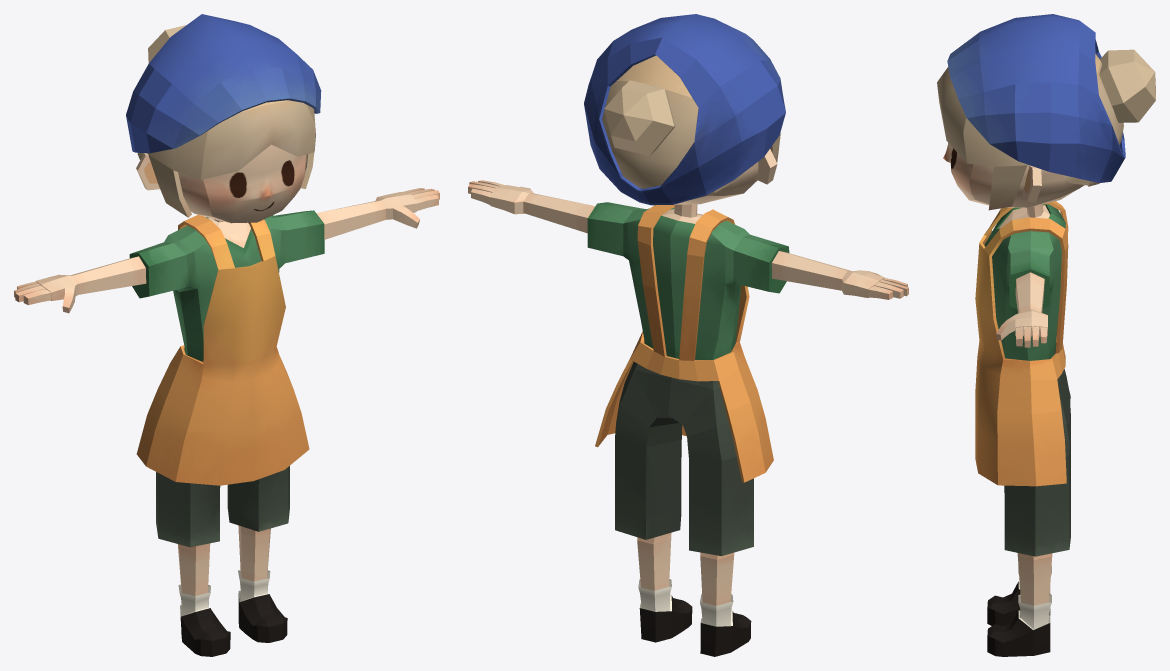
The model's file is EllieTextur.obj.
The picture shows the model from 3 angles, left to right: view 1: azimuth 30°, elevation 25°; view 2: azimuth 150°, elevation 25°; view 3: azimuth 270°, elevation 25°; orthographic projection. The views are drawn at different scales.
Parts seen in each view (by area): view 1: Body body, body Apron, Head_uv HairScarf, Head_uv Hair, Head_uv Head; view 2: Body body, Head_uv HairScarf, body Apron, Head_uv Hair, Hair2 Head_uv, Head_uv Head; view 3: Head_uv HairScarf, Body body, body Apron, Head_uv Hair, Hair2 Head_uv, Head_uv Head, Head_uv ears.
Part boxes in pixels (box(x1,y1,x2,y2)): Body body: box(14, 188, 439, 656); body Apron: box(136, 215, 309, 485); Head_uv HairScarf: box(126, 14, 321, 153); Head_uv Hair: box(137, 100, 315, 217); Head_uv Head: box(145, 144, 307, 223); Body body: box(468, 180, 908, 656); Head_uv HairScarf: box(584, 14, 785, 205); body Apron: box(595, 205, 773, 482); Head_uv Hair: box(602, 55, 780, 199); Hair2 Head_uv: box(604, 80, 675, 155); Head_uv Head: box(674, 162, 758, 204); Head_uv HairScarf: box(947, 14, 1125, 182); Body body: box(984, 204, 1070, 656); body Apron: box(975, 201, 1068, 486); Head_uv Hair: box(937, 53, 1123, 210); Hair2 Head_uv: box(1099, 49, 1155, 122); Head_uv Head: box(943, 142, 1084, 207); Head_uv ears: box(1022, 165, 1041, 202).
Bounding box in the file's own units: 15.43 × 21.1 × 6.79.
